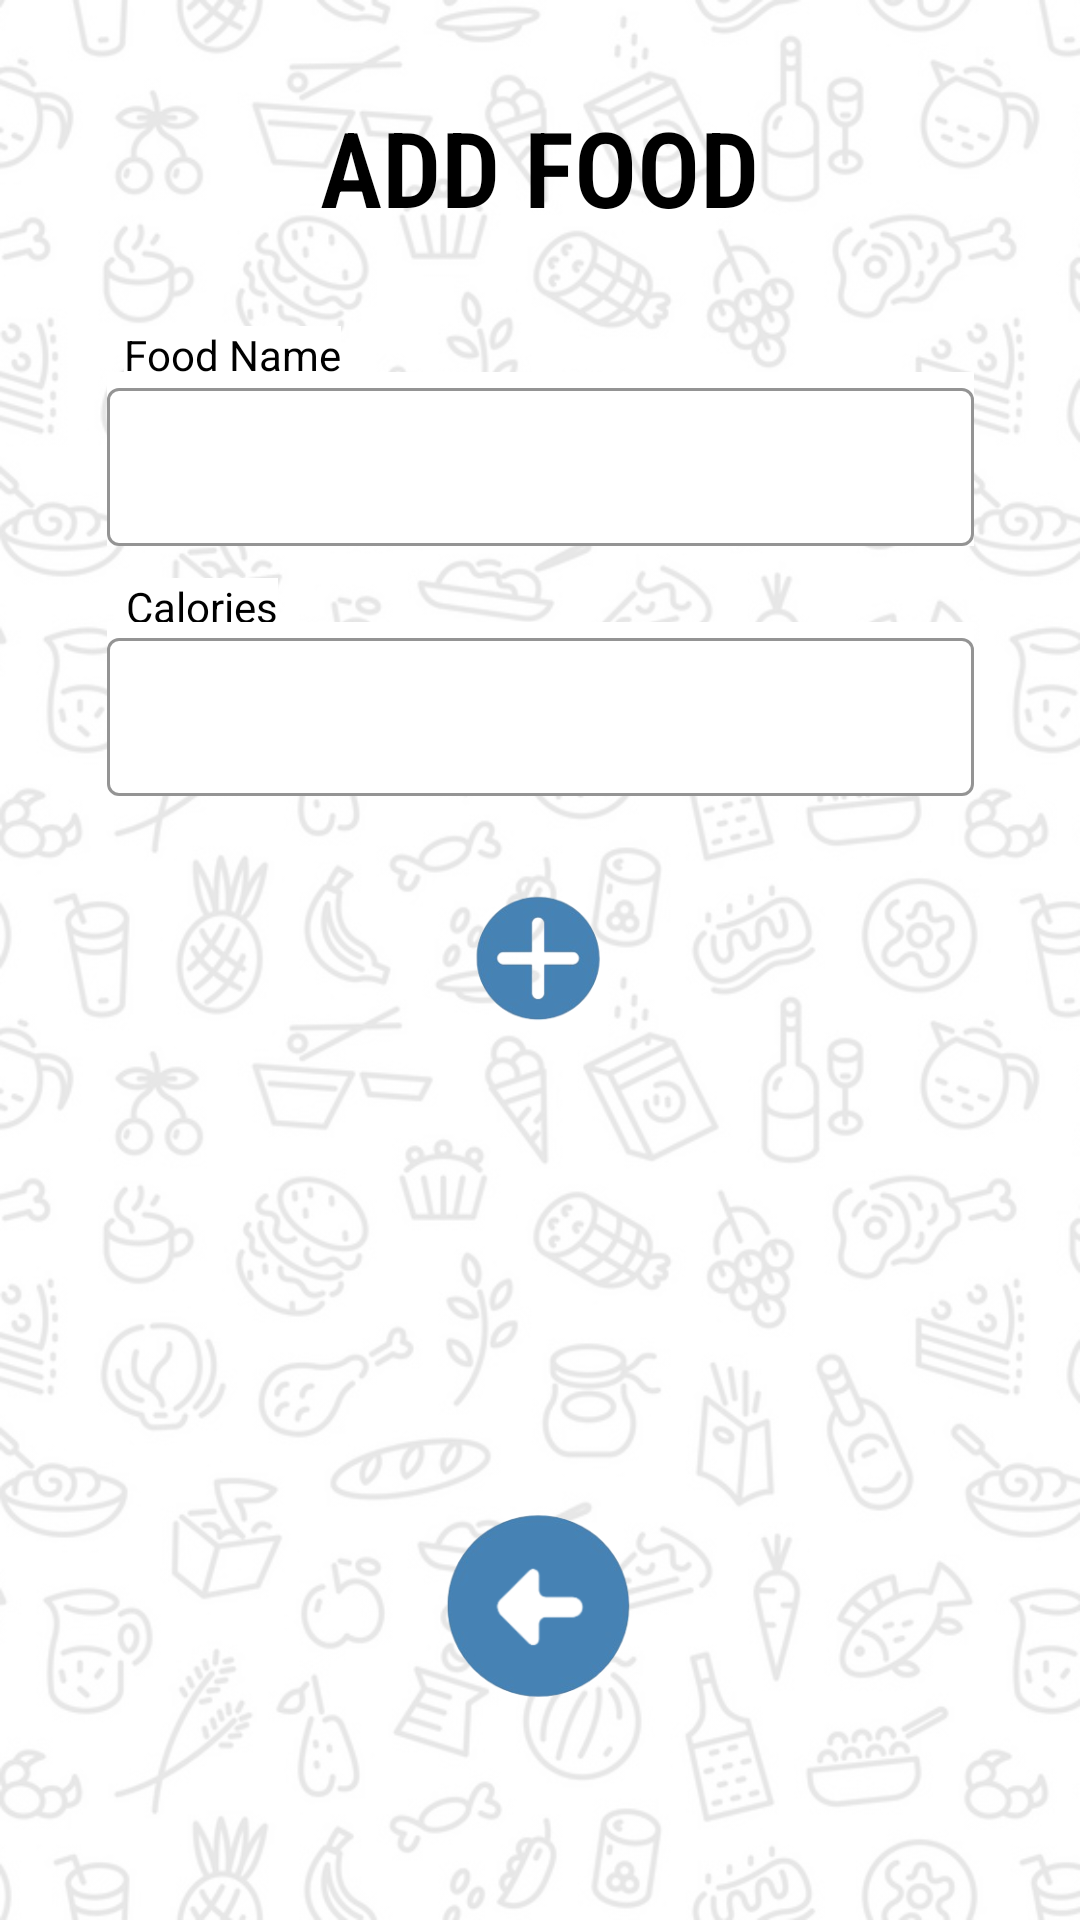

Screen size 1080px×1920px. Icon name, then its box in pixels as {"left": x1, "top": y1, "right": x2, "bottom": y2}:
addbutton: {"left": 466, "top": 892, "right": 610, "bottom": 1020}
backbutton: {"left": 442, "top": 1507, "right": 634, "bottom": 1705}
